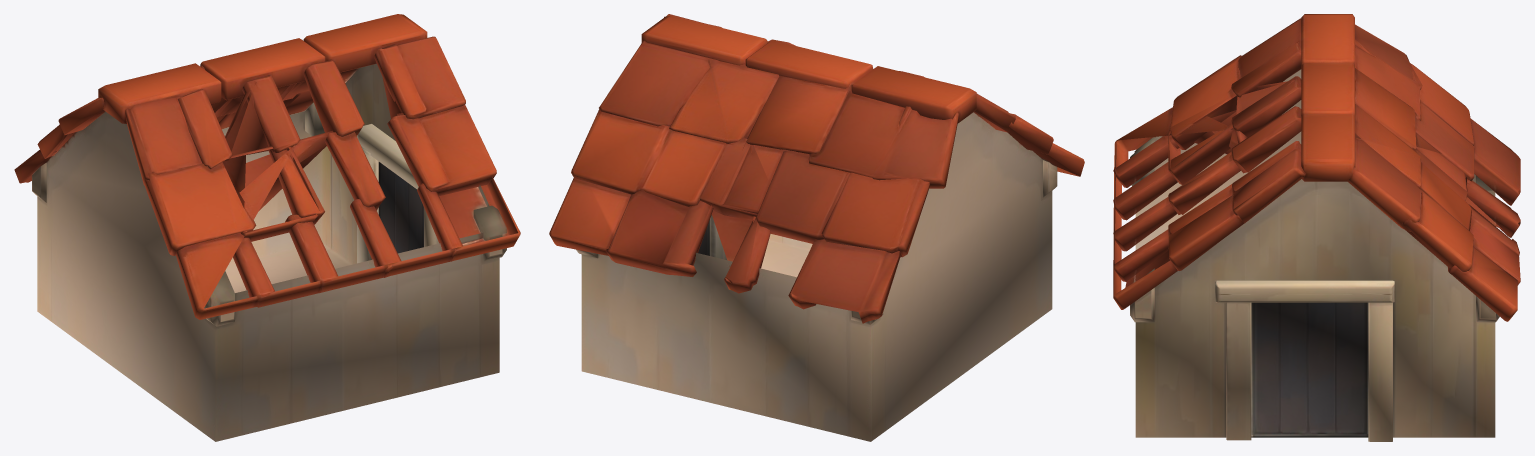
3 views of the same model, side by side, from view 1: azimuth 30°, elevation 25°; view 2: azimuth 150°, elevation 25°; view 3: azimuth 270°, elevation 25° (orthographic).
Parts seen in each view (by area): view 1: tripo_node_ca86e56c-c080-408d-957f-d0eb0e756dc3; view 2: tripo_node_ca86e56c-c080-408d-957f-d0eb0e756dc3; view 3: tripo_node_ca86e56c-c080-408d-957f-d0eb0e756dc3.
Boxes of the visible parts, x1,y1,x2,y2 form: tripo_node_ca86e56c-c080-408d-957f-d0eb0e756dc3: (14, 14, 520, 441); tripo_node_ca86e56c-c080-408d-957f-d0eb0e756dc3: (549, 14, 1084, 441); tripo_node_ca86e56c-c080-408d-957f-d0eb0e756dc3: (1113, 14, 1520, 441).
Size of the model in its own units: 0.9512 by 0.7637 by 0.998.
1 material, 1 textured.
